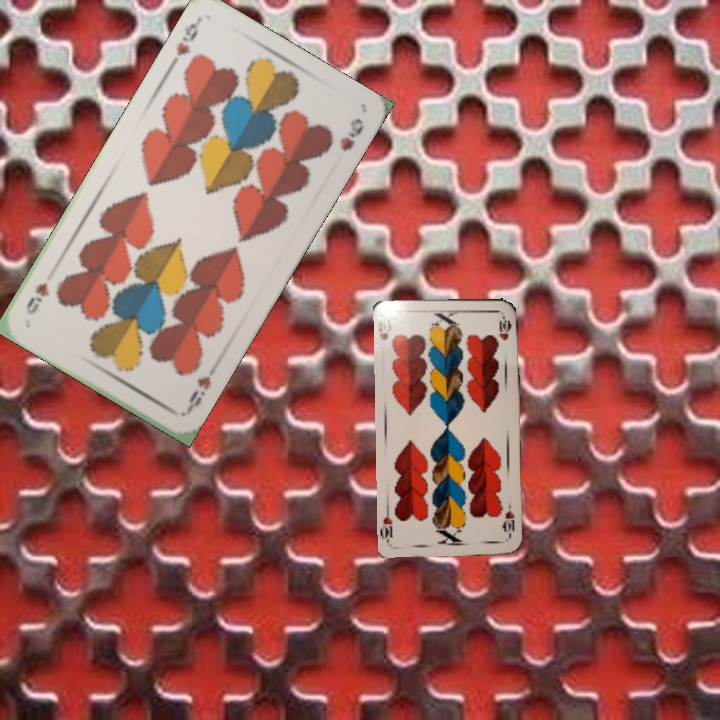H10: (499, 506, 517, 540), (375, 314, 394, 342)
H9: (182, 372, 214, 416), (172, 15, 203, 59)
